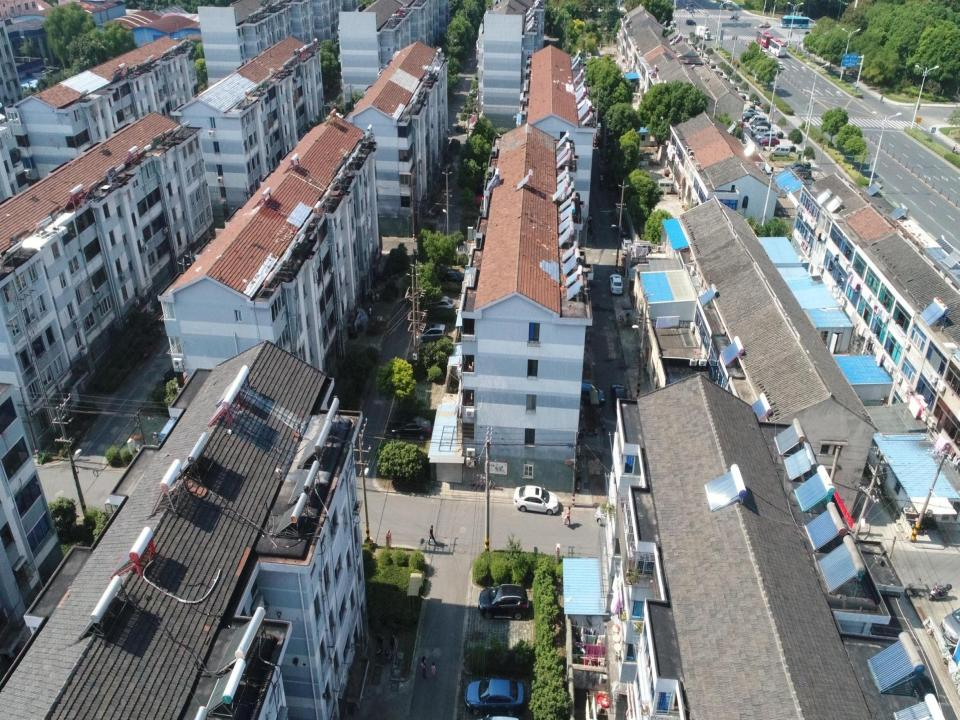bus: (779, 15, 808, 29), (768, 38, 786, 57), (755, 30, 774, 48)
car: (478, 580, 530, 623), (463, 679, 525, 710), (512, 483, 559, 514), (390, 415, 432, 440), (571, 379, 605, 405), (595, 503, 627, 530), (412, 322, 446, 342), (424, 295, 456, 315), (431, 269, 464, 287), (610, 383, 628, 416), (475, 194, 500, 212), (608, 273, 624, 295), (754, 130, 776, 144), (788, 166, 812, 178), (784, 162, 806, 173), (758, 136, 780, 146), (742, 111, 760, 123), (739, 108, 758, 118), (751, 121, 771, 130), (665, 17, 676, 25), (704, 62, 716, 69), (700, 56, 710, 64), (759, 22, 771, 28), (686, 19, 696, 26), (683, 2, 691, 10), (688, 0, 694, 6), (689, 8, 694, 14)
truck: (695, 24, 711, 41)
van: (657, 179, 676, 195), (771, 144, 790, 158), (751, 125, 769, 137), (749, 114, 767, 126)
